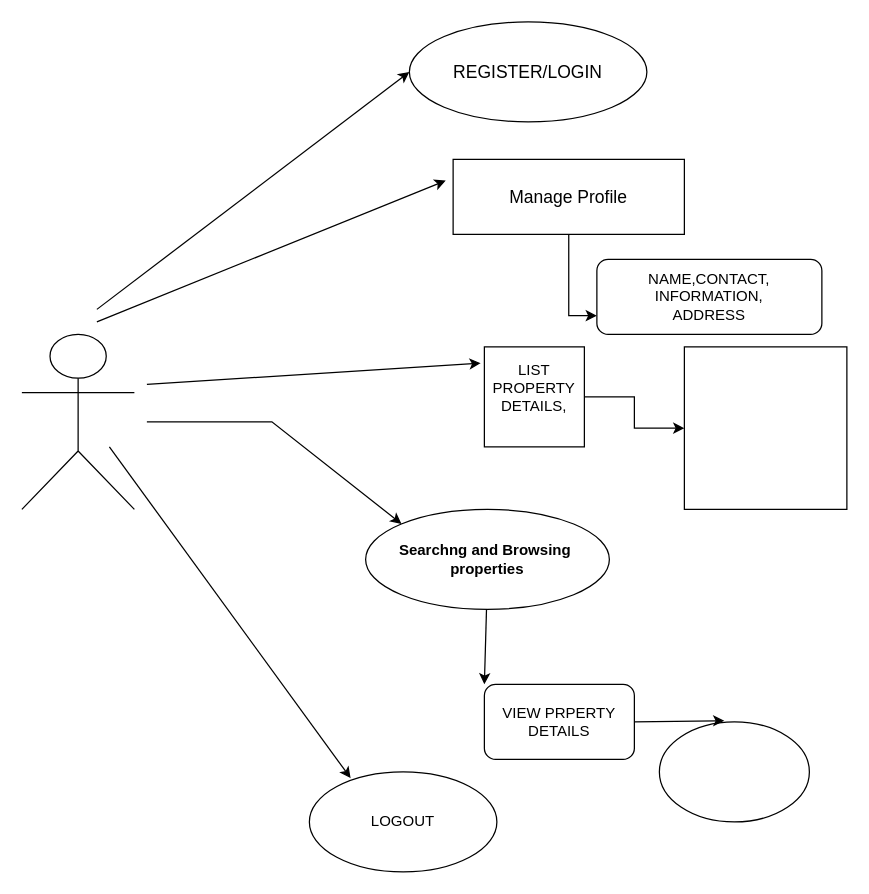
Image size: 869x894. Some labels were removed from this diagram. Each missing label, with the centre of its shape:
"Actor" goes at pixel 77 421.
"CONTACTING SELLERS" goes at pixel 733 771.
"Price , Area, Amenities, apartment, Bunglow" goes at pixel 765 427.
